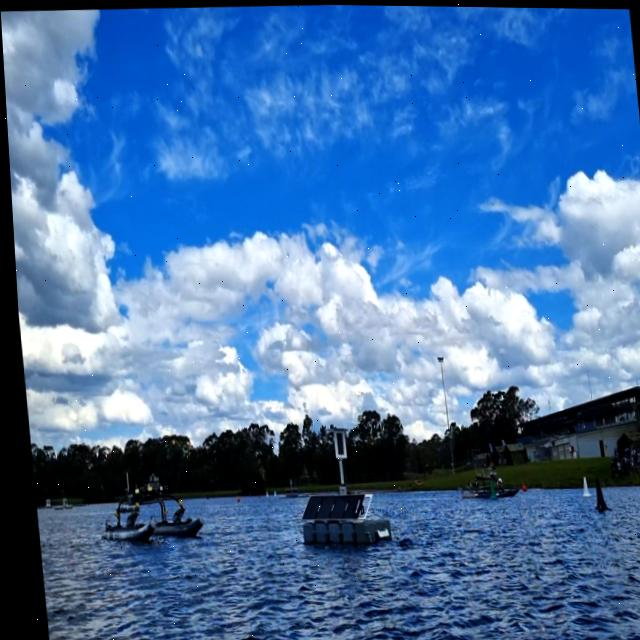led: (328, 430, 340, 456)
